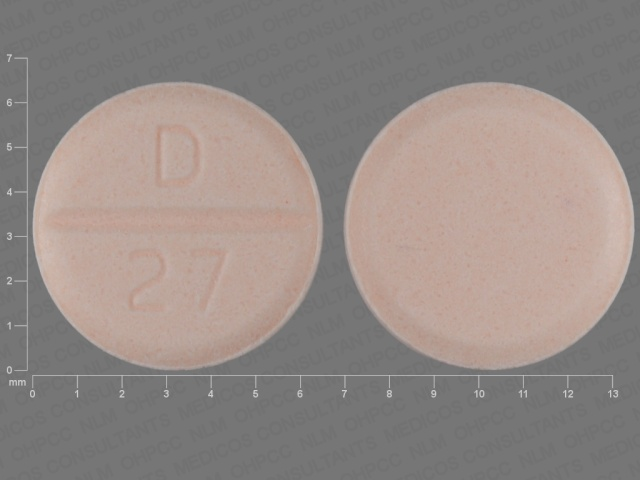2: (125, 247, 168, 319)
7: (183, 244, 228, 320)
D: (150, 124, 203, 195)
|: (39, 201, 311, 242)
